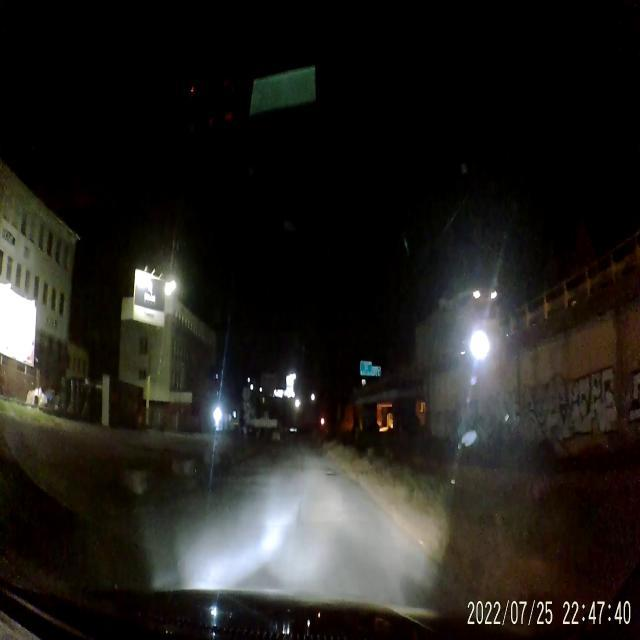Pothole: (322, 463, 343, 480)
